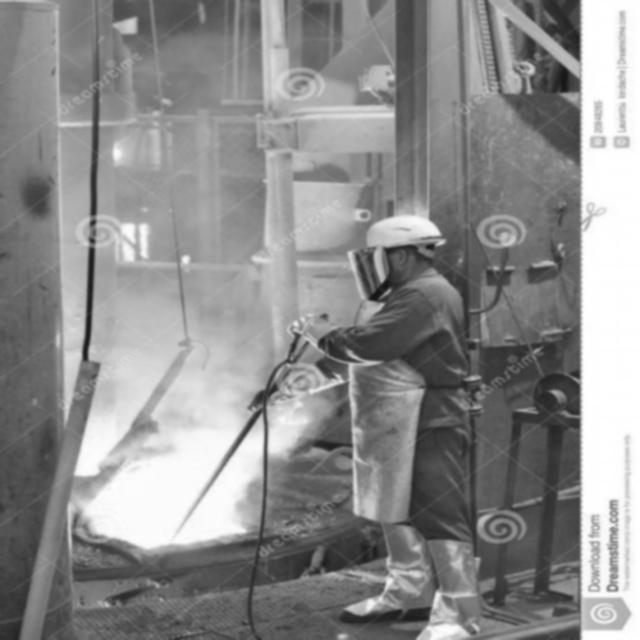head: (367, 210, 448, 281)
